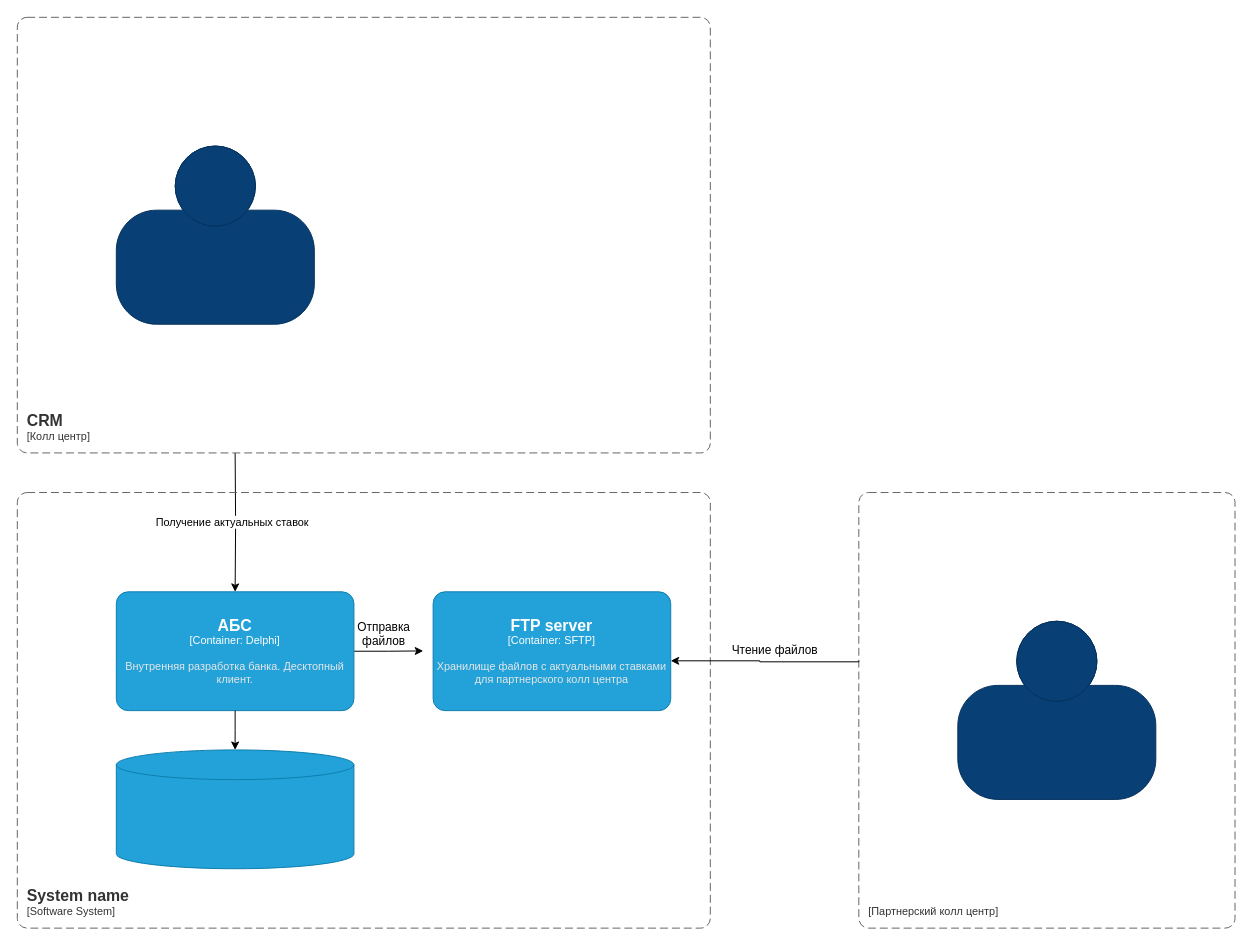
The diagram is 1252 pixels wide and 945 high, and some of its shapes have lost their labels. The centre of each missing label's shape, as x and y in pixels:
"База данных АБС [Container: Oracle Database] База данных АБС. RO Replica" belongs at (234,809).
"Менеджер колл центра [Person]" belongs at (214,234).
"Менеджер партнерского колл центра [Person]" belongs at (1056,709).
